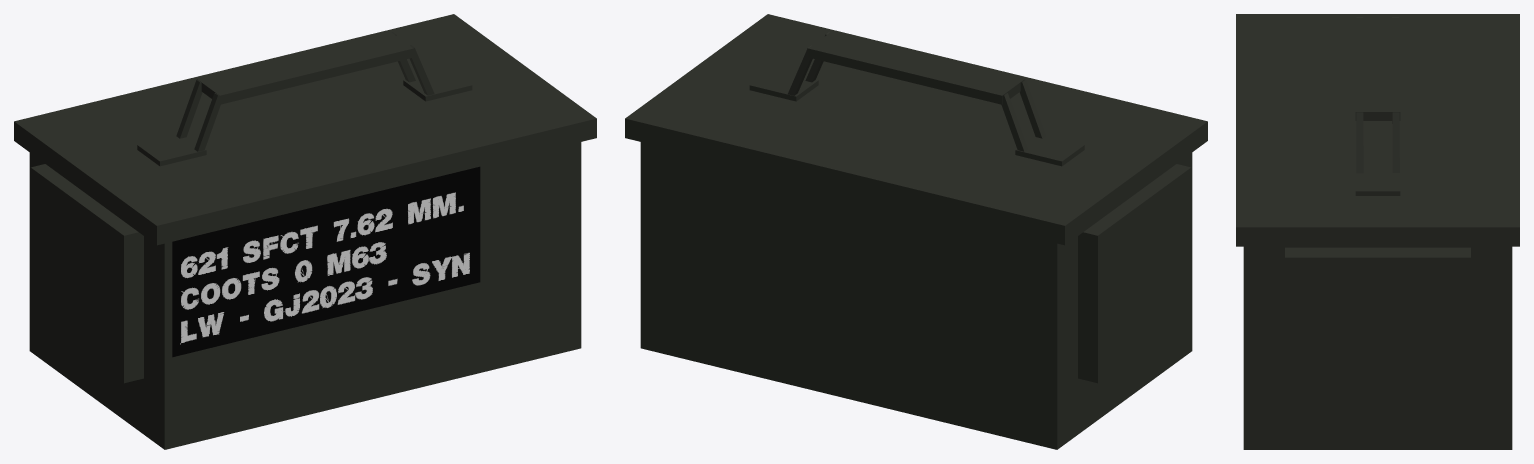
The model's file is Ammobox.fbx.
3 renders of one model, left to right at view 1: azimuth 30°, elevation 25°; view 2: azimuth 150°, elevation 25°; view 3: azimuth 270°, elevation 25°, orthographic.
Visible parts, largest first — view 1: Cube; view 2: Cube; view 3: Cube.
Part boxes in pixels (bbox=[...]): Cube: bbox=[14, 14, 596, 449]; Cube: bbox=[625, 14, 1207, 449]; Cube: bbox=[1236, 14, 1519, 449].
Size of the model in its own units: 441 by 264 by 239.
